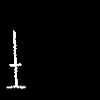double_crochet: (7, 30, 24, 87)
